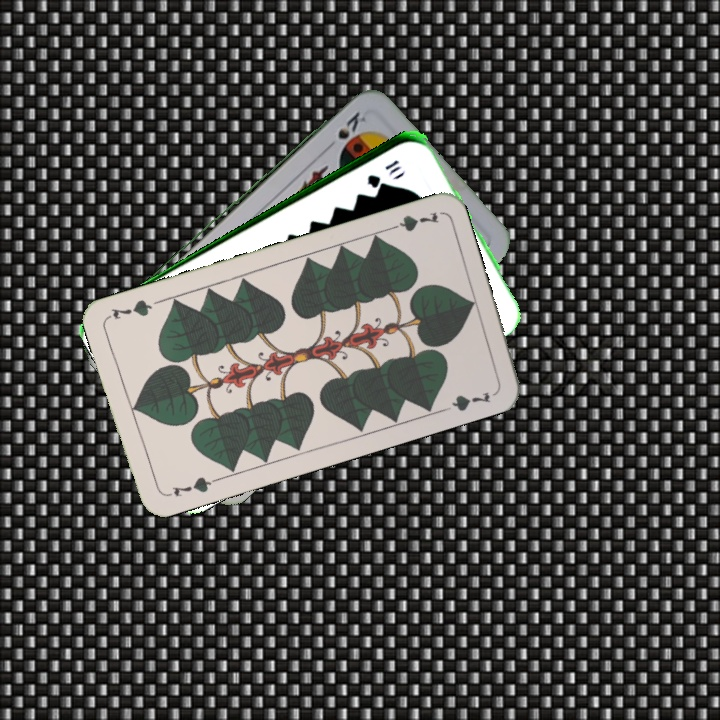G10: (363, 155, 403, 189)
G7: (383, 208, 442, 235), (168, 472, 220, 500)
SK: (334, 107, 369, 142)
